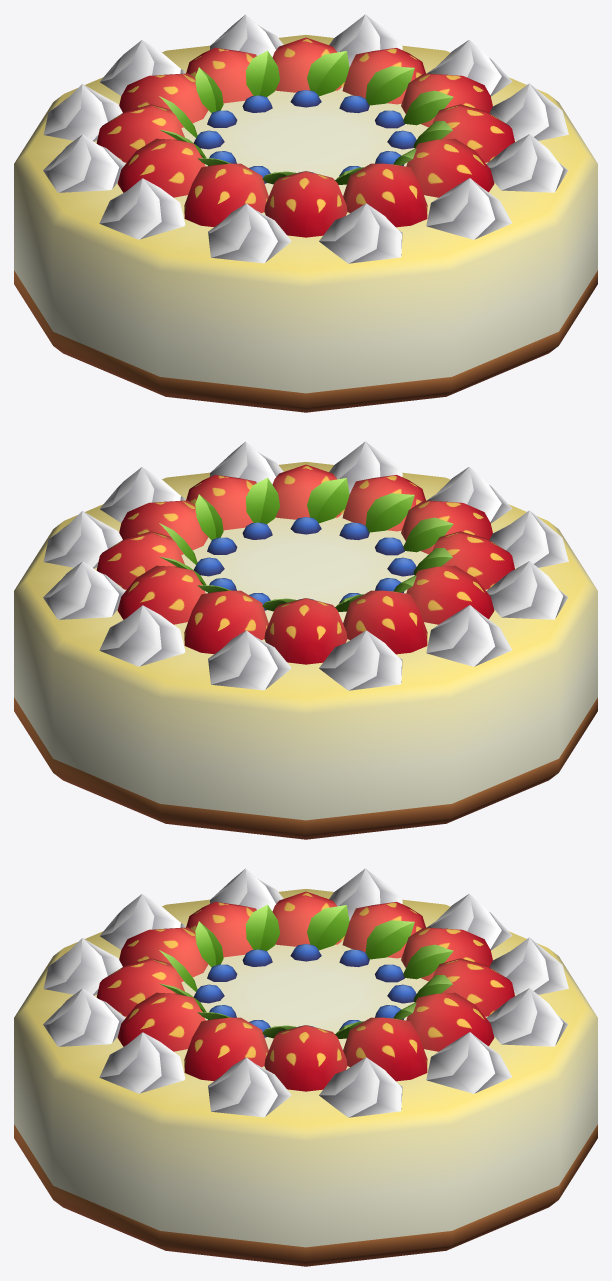
Rendered from m_Cake01.fbx.
3 renders of one model, top to bottom at view 1: azimuth 30°, elevation 25°; view 2: azimuth 150°, elevation 25°; view 3: azimuth 270°, elevation 25°, orthographic.
Parts seen in each view (by area): view 1: m_Cake01; view 2: m_Cake01; view 3: m_Cake01.
Part boxes in pixels (x1,y1,x2,y2): m_Cake01: (14,14,597,412); m_Cake01: (14,441,597,839); m_Cake01: (14,868,597,1266).
Bounding box in the file's own units: 28 × 9.87 × 28.
